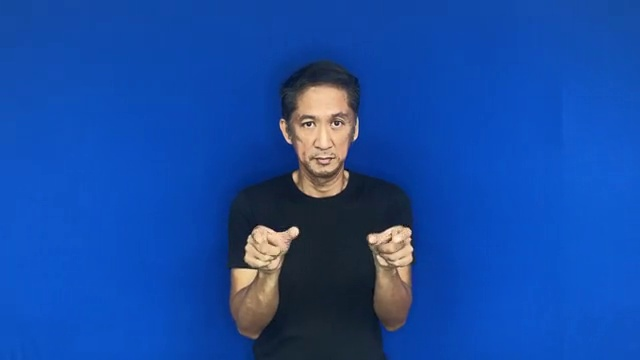crab: (236, 216, 418, 285)
